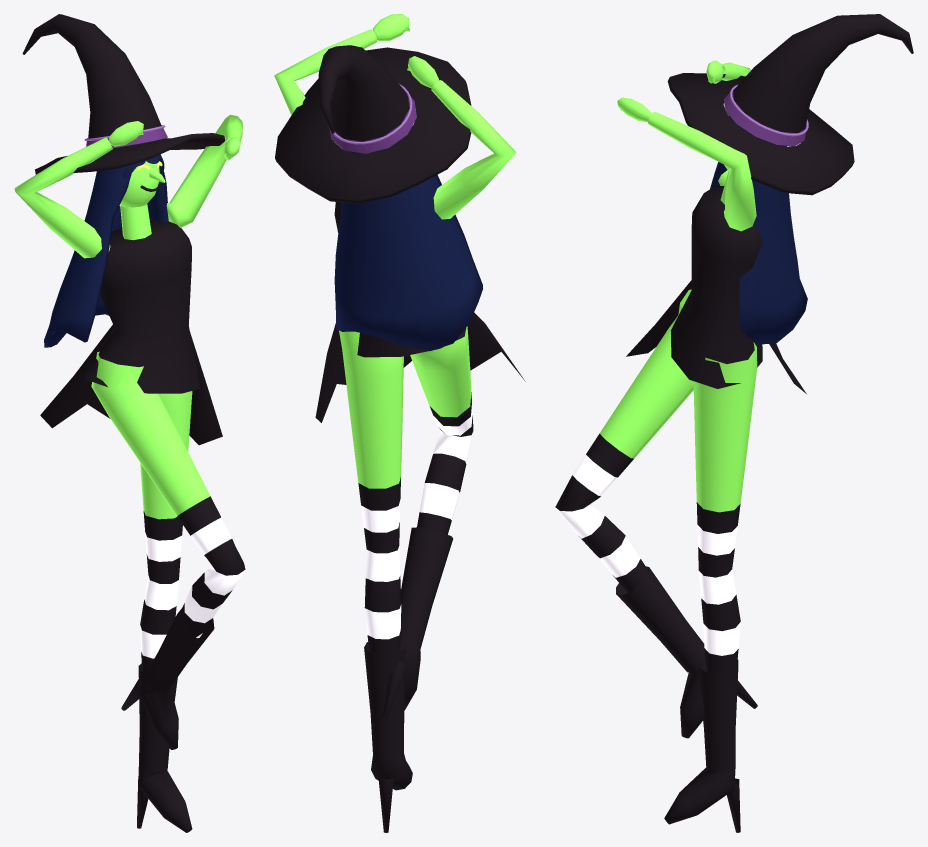
File: witch_happy_solo_a.glb
3 renders of one model, left to right at view 1: azimuth 30°, elevation 25°; view 2: azimuth 150°, elevation 25°; view 3: azimuth 270°, elevation 25°, orthographic. The views are drawn at different scales.
Visible parts, largest first — view 1: HWG_WitchHappy_solo_a; view 2: HWG_WitchHappy_solo_a; view 3: HWG_WitchHappy_solo_a.
Part boxes in pixels (x1,y1,x2,y2): HWG_WitchHappy_solo_a: [14, 14, 245, 832]; HWG_WitchHappy_solo_a: [274, 14, 525, 832]; HWG_WitchHappy_solo_a: [555, 14, 913, 832].
Bounding box in the file's own units: 0.4121 × 1.34 × 0.5358.
